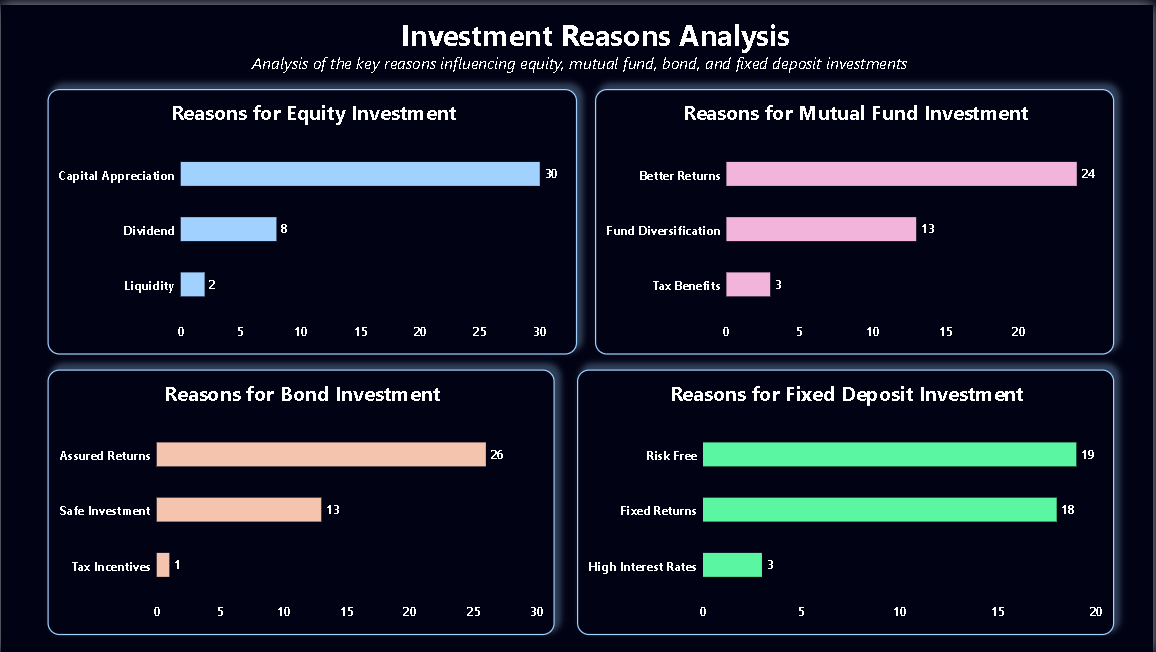

This screenshot's page, from the dashboard's own definition file:
{"tool":"powerbi","page":{"name":"Task-5.Reasons for Investment","canvas":[1920,1080],"ordinal":4},"visuals":[{"type":"textbox","box":[128,18,1726,66],"z":0},{"type":"clusteredBarChart","title":"Reasons for Bond Investment","fields":{"Category":["Investments.Reason_Bonds"],"Y":["CountNonNull(Investments.Reason_Bonds)"]},"box":[77.5,607.5,845,442.5],"z":1000},{"type":"clusteredBarChart","title":"Reasons for Equity Investment","fields":{"Category":["Investments.Reason_Equity"],"Y":["CountNonNull(Investments.Reason_Equity)"]},"box":[77.5,140,882.5,442.5],"z":2000},{"type":"clusteredBarChart","title":"Reasons for Mutual Fund Investment","fields":{"Category":["Investments.Reason_Mutual"],"Y":["CountNonNull(Investments.Reason_Mutual)"]},"box":[990,140,865,442.5],"z":3000},{"type":"clusteredBarChart","title":"Reasons for Fixed Deposit Investment","fields":{"Category":["Investments.Reason_FD"],"Y":["CountNonNull(Investments.Reason_FD)"]},"box":[960,607.5,895,442.5],"z":4000},{"type":"textbox","box":[77.7,77.7,1774.6,49.2],"z":5000}]}

Visuals, with their boxes in screenshot pixels (x1, y1, x2, y2), scaled from the page's 1920x1080 canvas onto the 1156x652 screenshot:
textbox: [77,11,1116,51]
"Reasons for Bond Investment" clusteredBarChart: [47,367,555,634]
"Reasons for Equity Investment" clusteredBarChart: [47,85,578,352]
"Reasons for Mutual Fund Investment" clusteredBarChart: [596,85,1117,352]
"Reasons for Fixed Deposit Investment" clusteredBarChart: [578,367,1117,634]
textbox: [47,47,1115,77]
